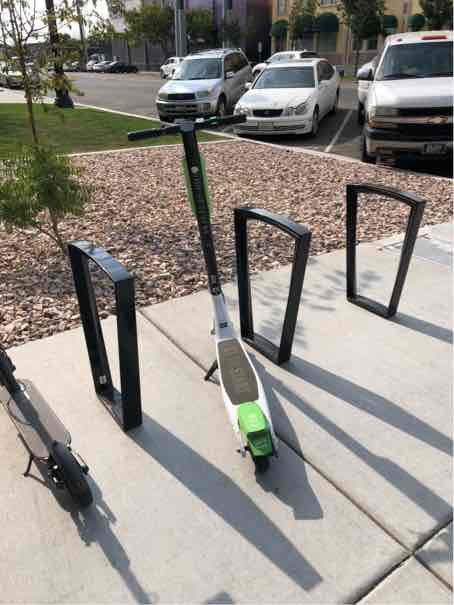scooter: (118, 104, 295, 480)
